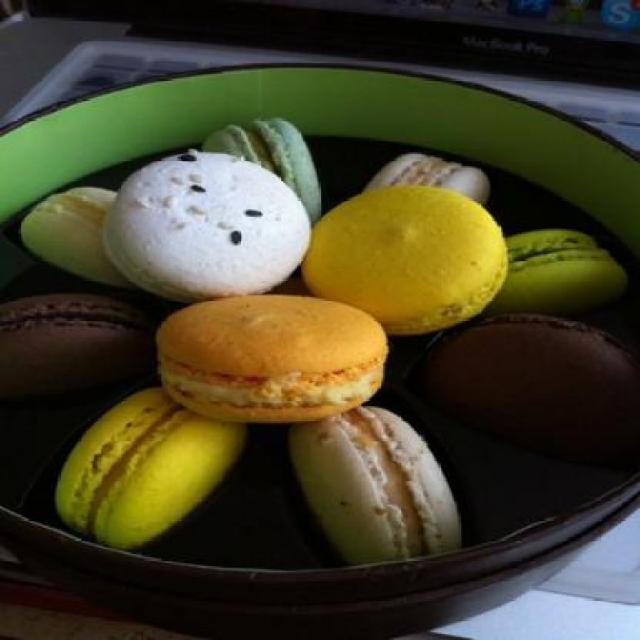Macaron: (18, 113, 630, 570)
